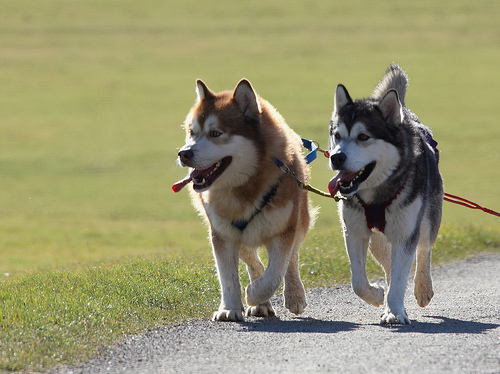dog: (175, 75, 314, 322), (328, 67, 444, 325)
